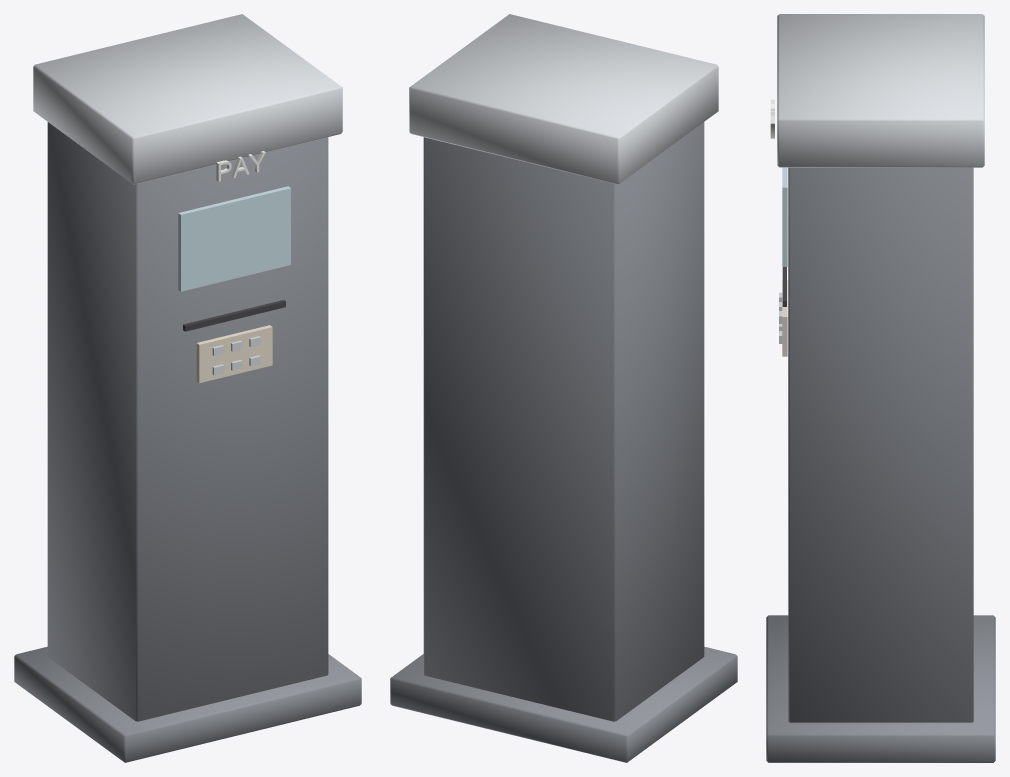
Rendered from PayKiosk_Lot.fbx.
3 renders of one model, left to right at view 1: azimuth 30°, elevation 25°; view 2: azimuth 150°, elevation 25°; view 3: azimuth 270°, elevation 25°, orthographic. The views are drawn at different scales.
Parts seen in each view (by area): view 1: LOD0; view 2: LOD0; view 3: LOD0.
Boxes of the visible parts, bbox=[...] form: LOD0: bbox=[14, 14, 361, 762]; LOD0: bbox=[390, 14, 737, 762]; LOD0: bbox=[766, 14, 995, 762].
Size of what is drawn, in the model's own units: 52 by 129 by 42.
